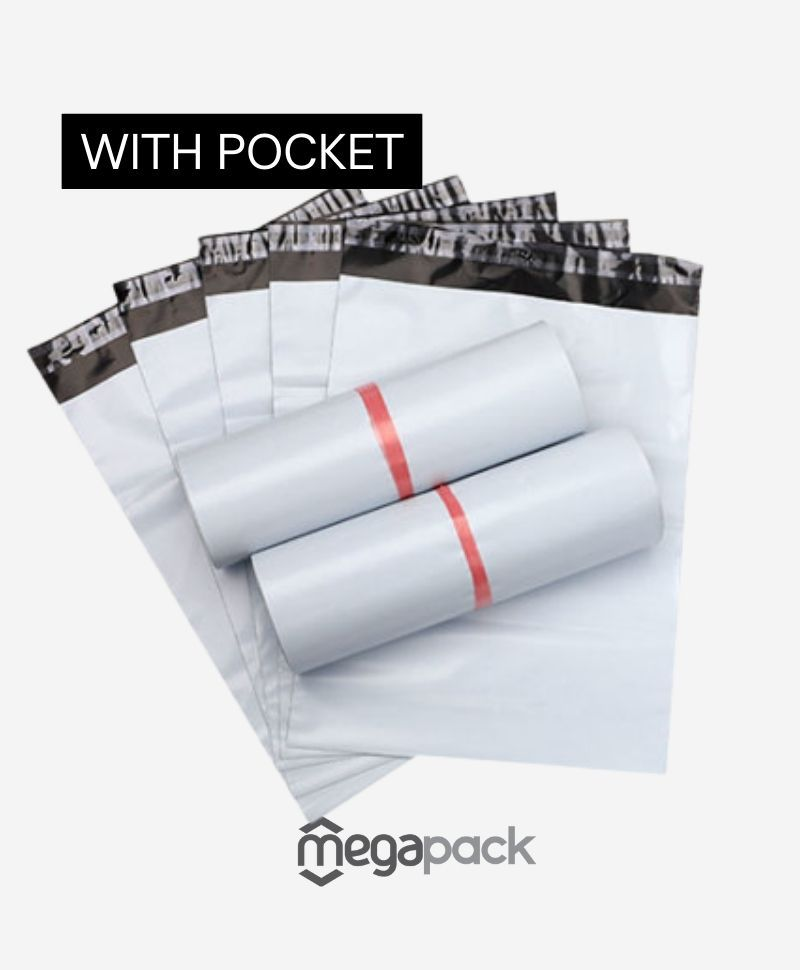塑料袋: (31, 180, 701, 817)
